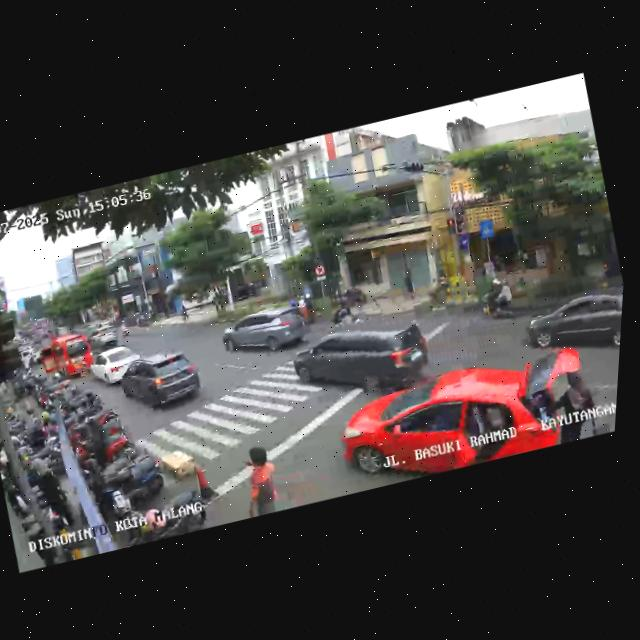car: (326, 340, 594, 495), (285, 310, 440, 414), (513, 275, 624, 373), (112, 341, 205, 421), (217, 299, 314, 366), (33, 330, 96, 386), (86, 341, 148, 390), (86, 325, 121, 353)
motorcycle: (474, 272, 520, 324)
person: (232, 439, 294, 516)
